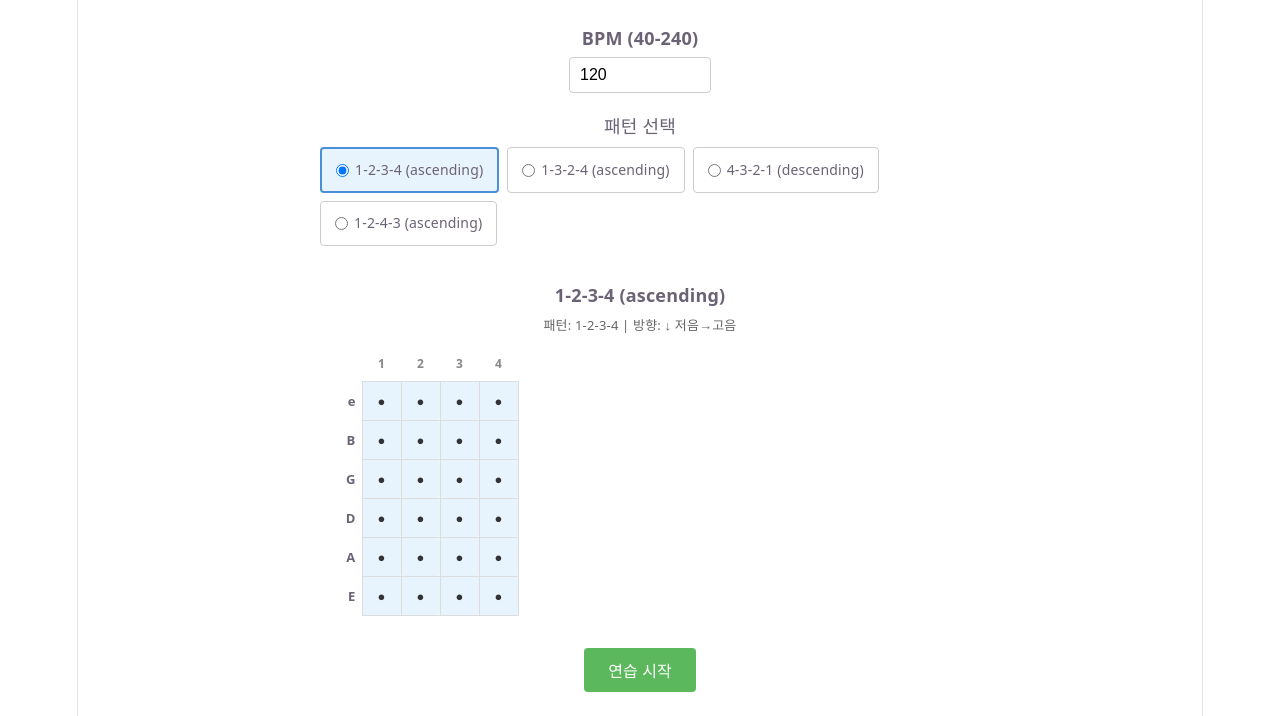
ChromaticPage › transitions to practicing state on successful start
(page scrolled)
Click the button "연습 시작".
click(640, 670)  # box x1=584 y1=648 x2=696 y2=692
(page scrolled)
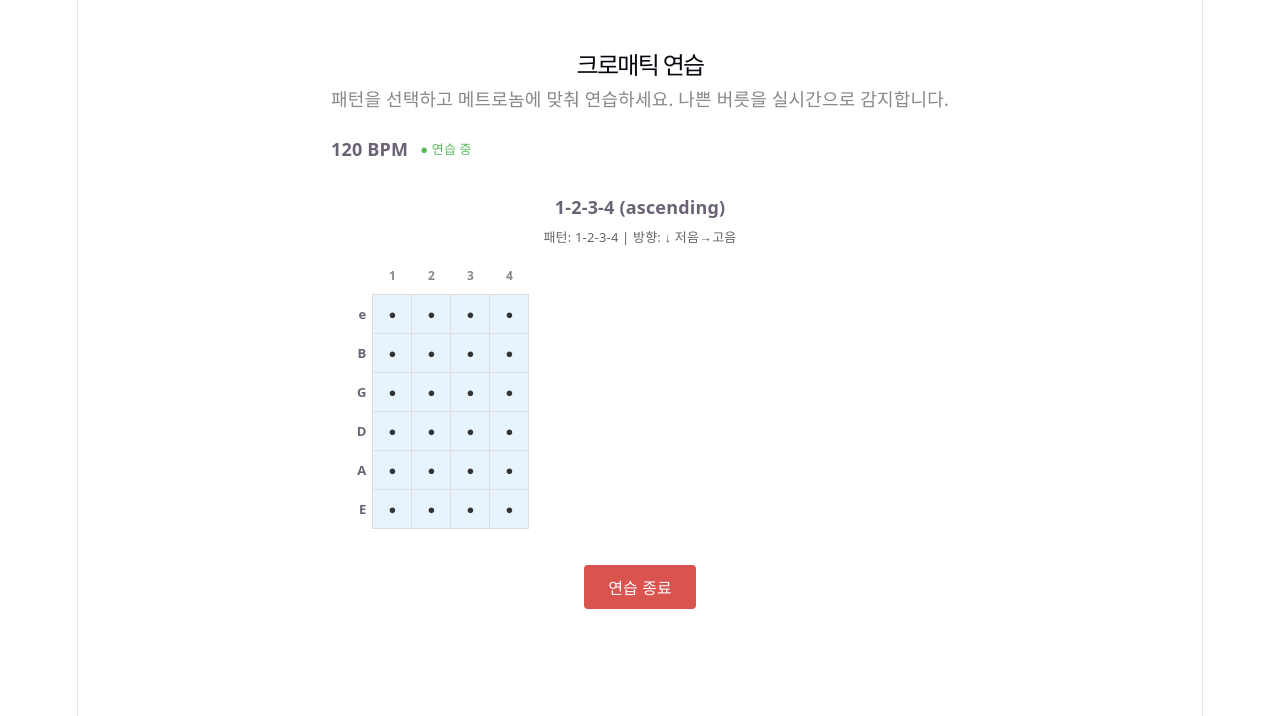
Check: the button "연습 종료" is shown, box x1=584 y1=565 x2=696 y2=609
